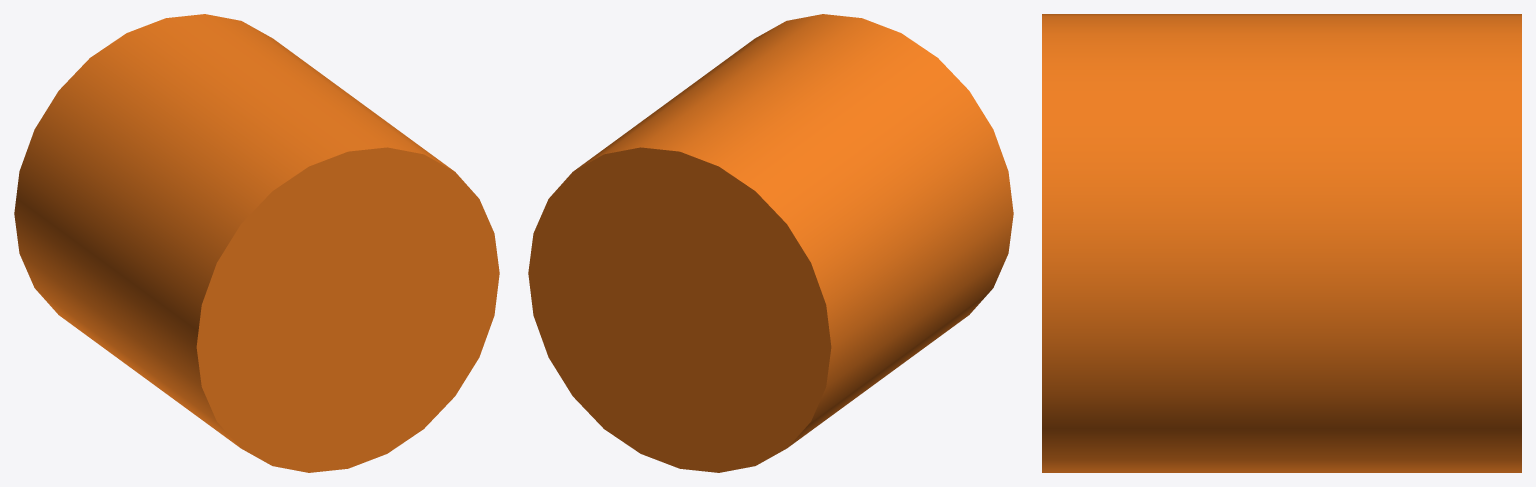
3 renders of one model, left to right at view 1: azimuth 30°, elevation 25°; view 2: azimuth 150°, elevation 25°; view 3: azimuth 270°, elevation 25°, orthographic. The views are drawn at different scales.
Parts seen in each view (by area): view 1: gripper_frame; view 2: gripper_frame; view 3: gripper_frame.
Boxes of the visible parts, left/top/right/bottom form: gripper_frame: left=14, top=14, right=499, bottom=472; gripper_frame: left=528, top=14, right=1013, bottom=472; gripper_frame: left=1042, top=14, right=1521, bottom=472.
Bounding box in the file's own units: 0.0115 × 0.0115 × 0.012.
